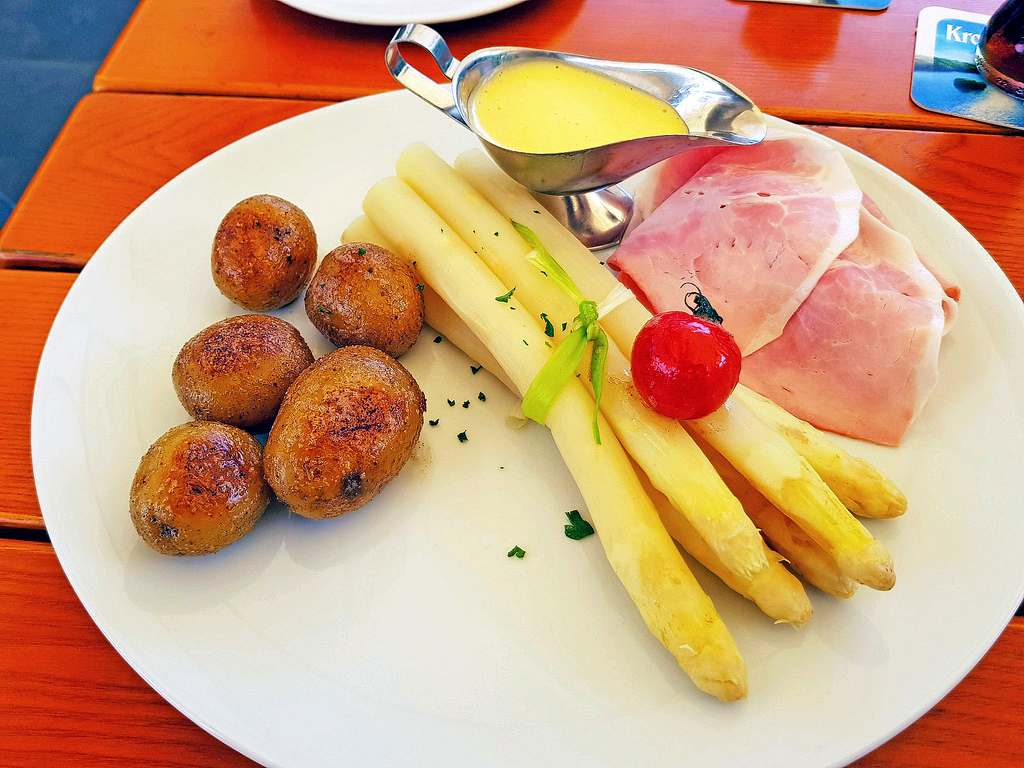boiled potatoes: (271, 344, 433, 525), (114, 418, 268, 565), (163, 321, 316, 420), (297, 242, 431, 353), (200, 195, 317, 312)
